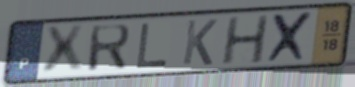H: (218, 13, 271, 67)
K: (180, 18, 220, 67)
L: (134, 21, 171, 70)
R: (86, 22, 134, 73)
X: (264, 10, 317, 66), (41, 23, 87, 78)
